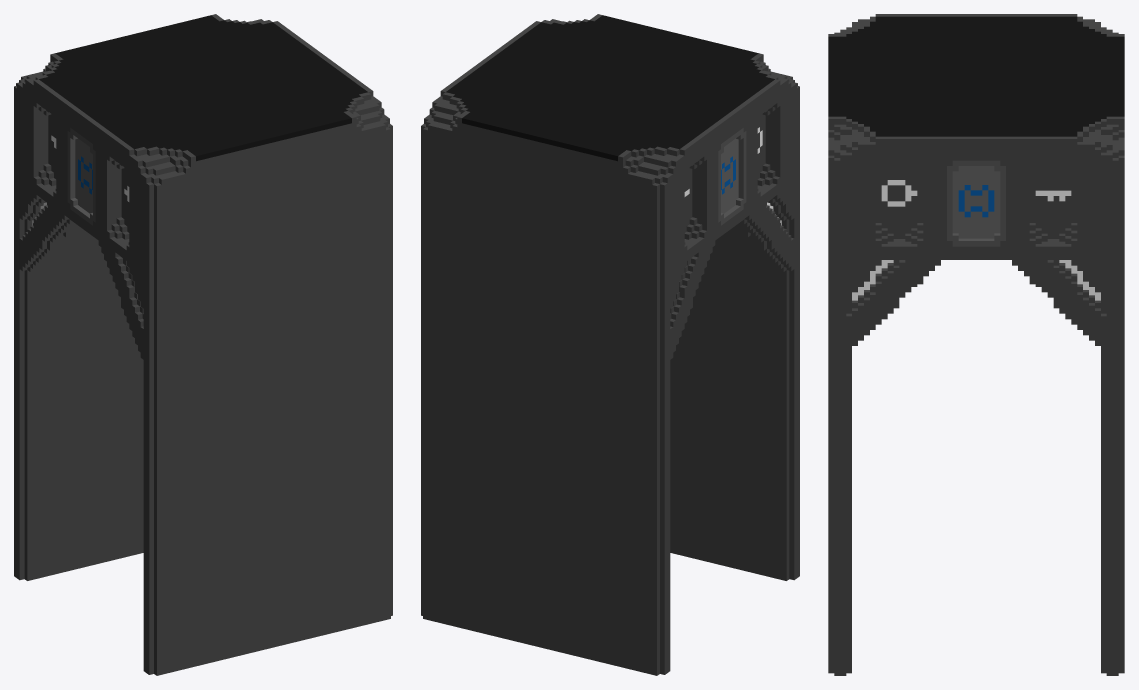
The model's file is 128cиняя руна дверь открыта.obj.
3 views of the same model, side by side, from view 1: azimuth 30°, elevation 25°; view 2: azimuth 150°, elevation 25°; view 3: azimuth 270°, elevation 25° (orthographic). The views are drawn at different scales.
Size of the model in its own units: 5 by 10 by 5.
1 material, 1 textured.
